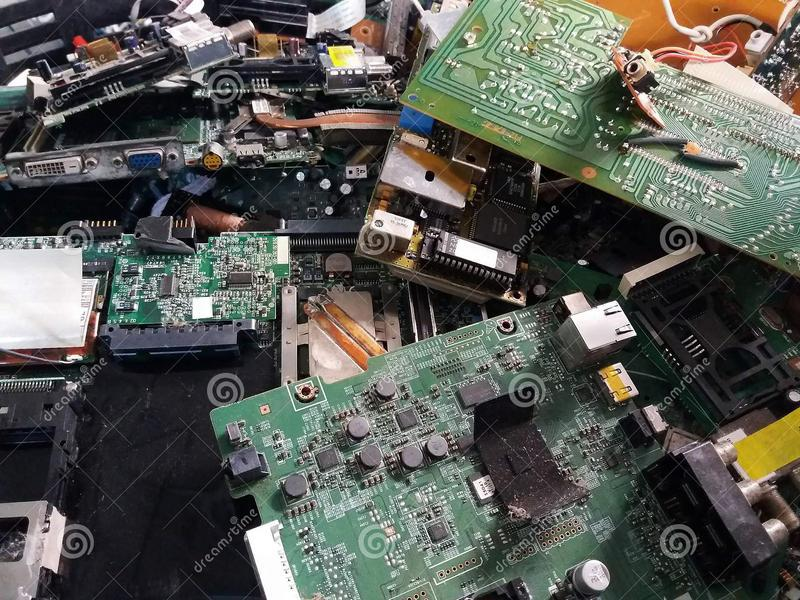circuit_board: (183, 292, 777, 600), (392, 1, 800, 276), (341, 111, 551, 307), (48, 219, 317, 372), (17, 12, 396, 119)
